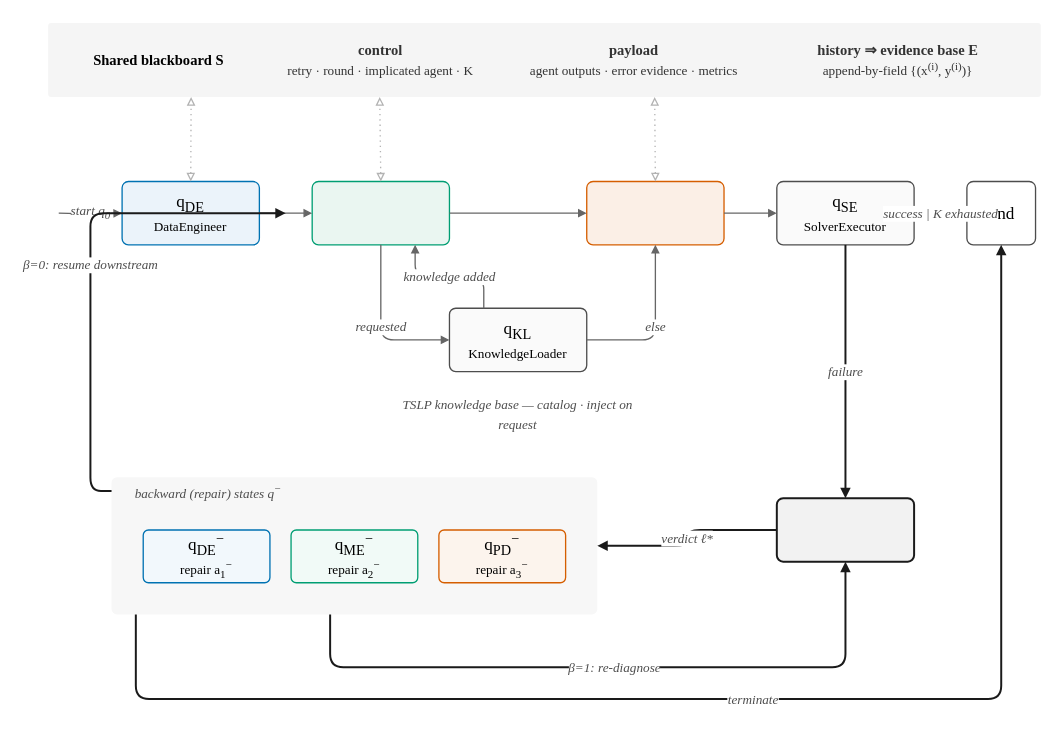
Image size: 1063x730. Some labels were removed from this diagram. The shapes that lost their labels are listed below. From the top down, each one's centre as x and y in pixels, then its label:
At [380,212]: "q ME ModelExpert".
At [654,212]: "q PD PythonDeveloper".
At [844,529]: "q DG DiagnosisAgent".
